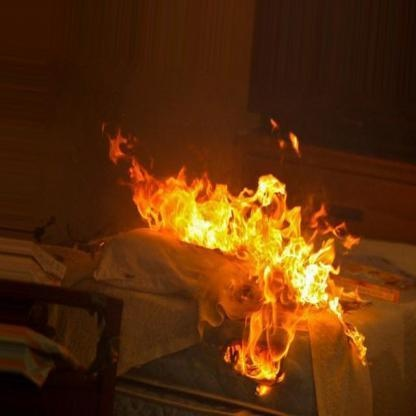fire: (68, 111, 390, 391)
